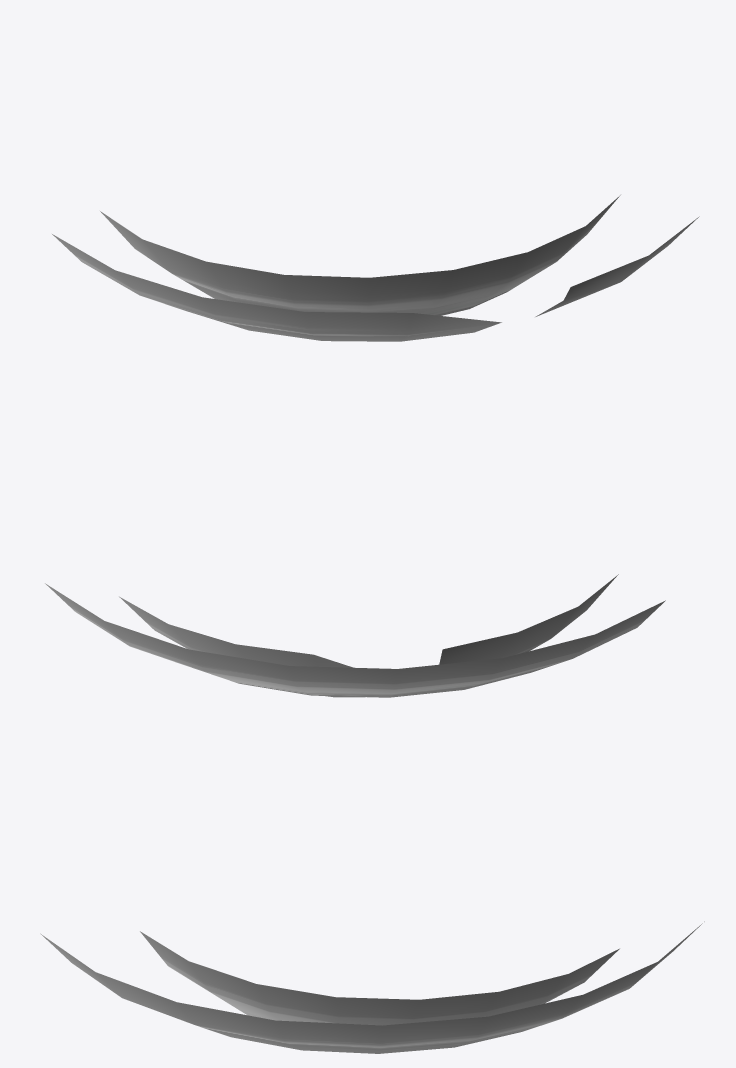
File: tornado_ring.glb
The picture shows the model from 3 angles, top to bottom: view 1: azimuth 30°, elevation 25°; view 2: azimuth 150°, elevation 25°; view 3: azimuth 270°, elevation 25°; orthographic projection.
Parts seen in each view (by area): view 1: FX_Props_Item_Tornado_idle_01; view 2: FX_Props_Item_Tornado_idle_01; view 3: FX_Props_Item_Tornado_idle_01.
Part boxes in pixels (<box>): FX_Props_Item_Tornado_idle_01: <box>52,195,699,341</box>; FX_Props_Item_Tornado_idle_01: <box>45,574,665,697</box>; FX_Props_Item_Tornado_idle_01: <box>40,921,704,1053</box>.
Size of the model in its own units: 1.93 by 0.2999 by 1.93.
Materials: 1 (1 with a texture image).
